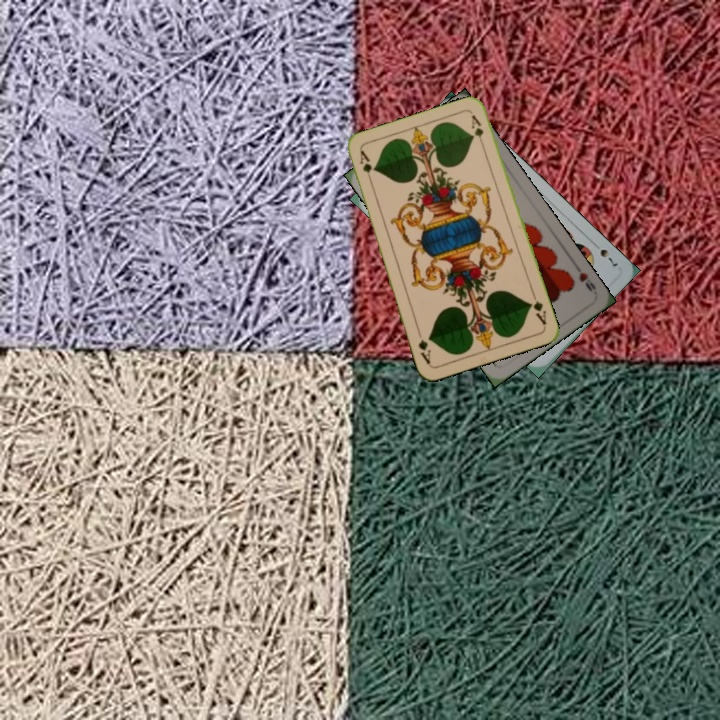GA: (526, 289, 549, 328), (356, 146, 375, 186)
H9: (570, 260, 599, 294)
S7: (589, 238, 621, 269)
